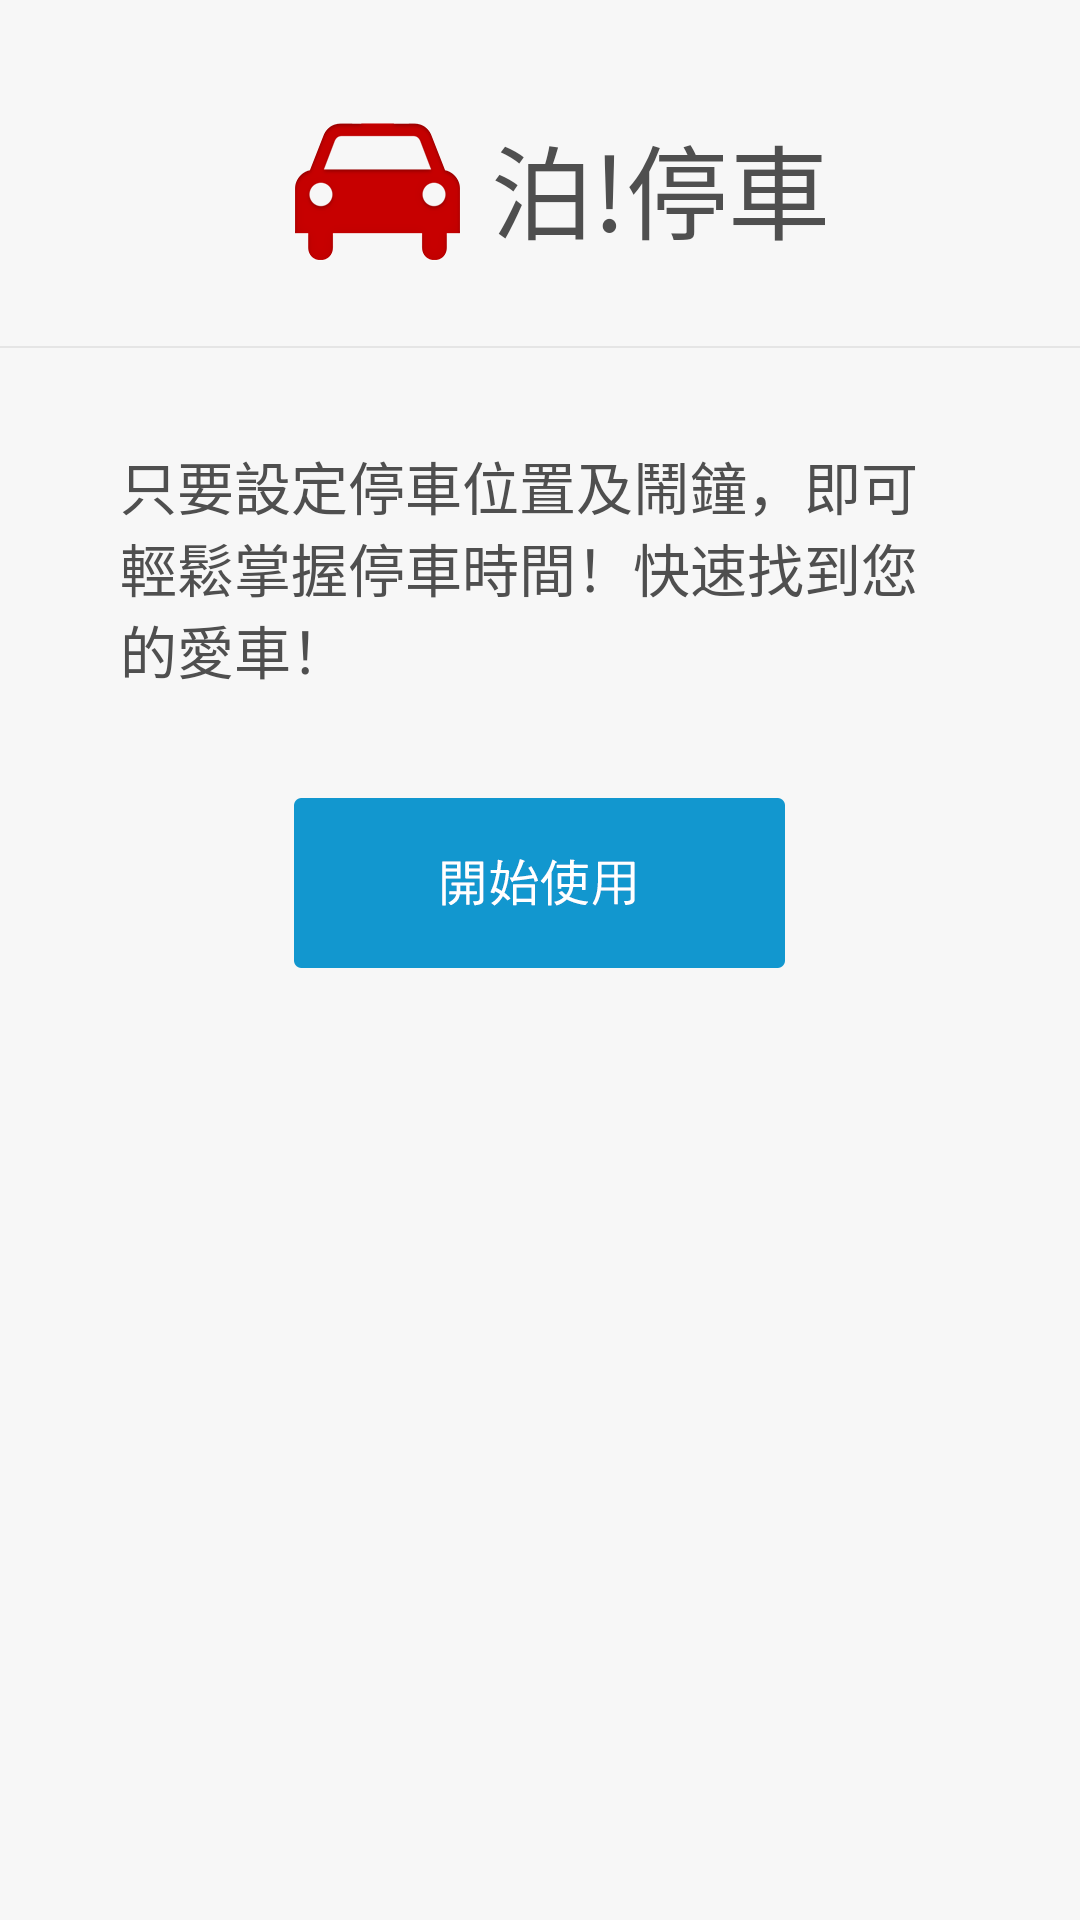

Icon click points for this 1080w x 1920h phone screenshot, format [x,y]:
parking: [377,191]
